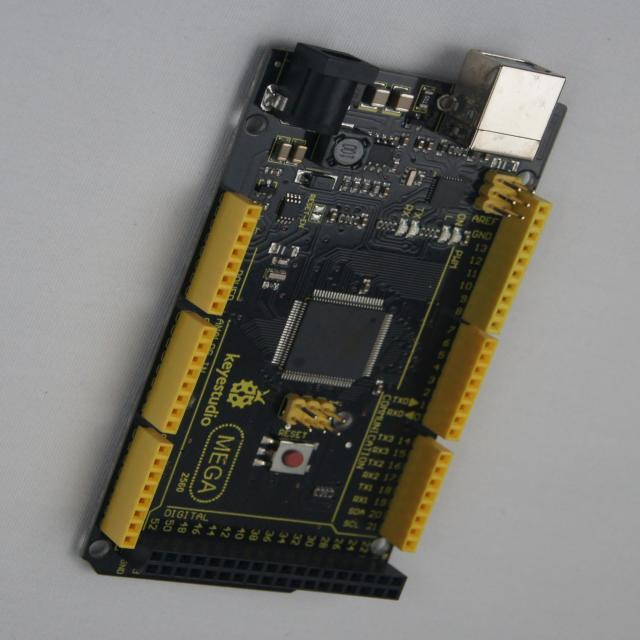Arduino Mega 2560 -Yellow-: (86, 45, 567, 599)
